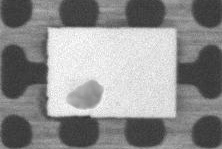DIE_INK: (65, 80, 102, 108)
